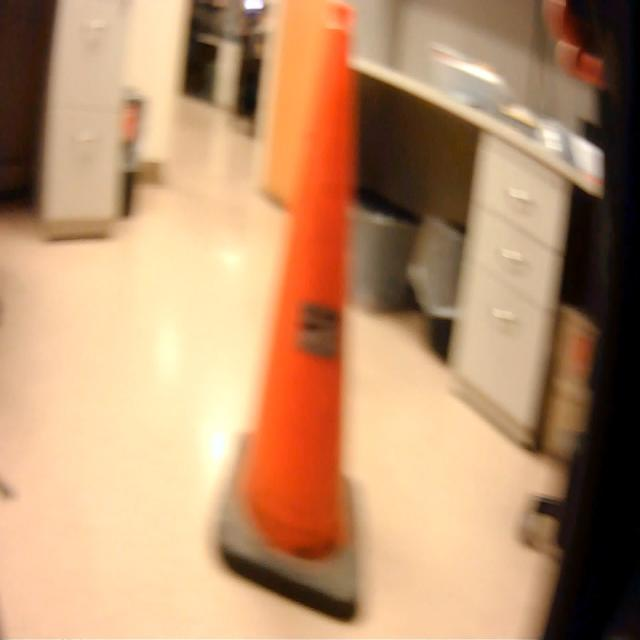traffic cone: (209, 1, 371, 630)
